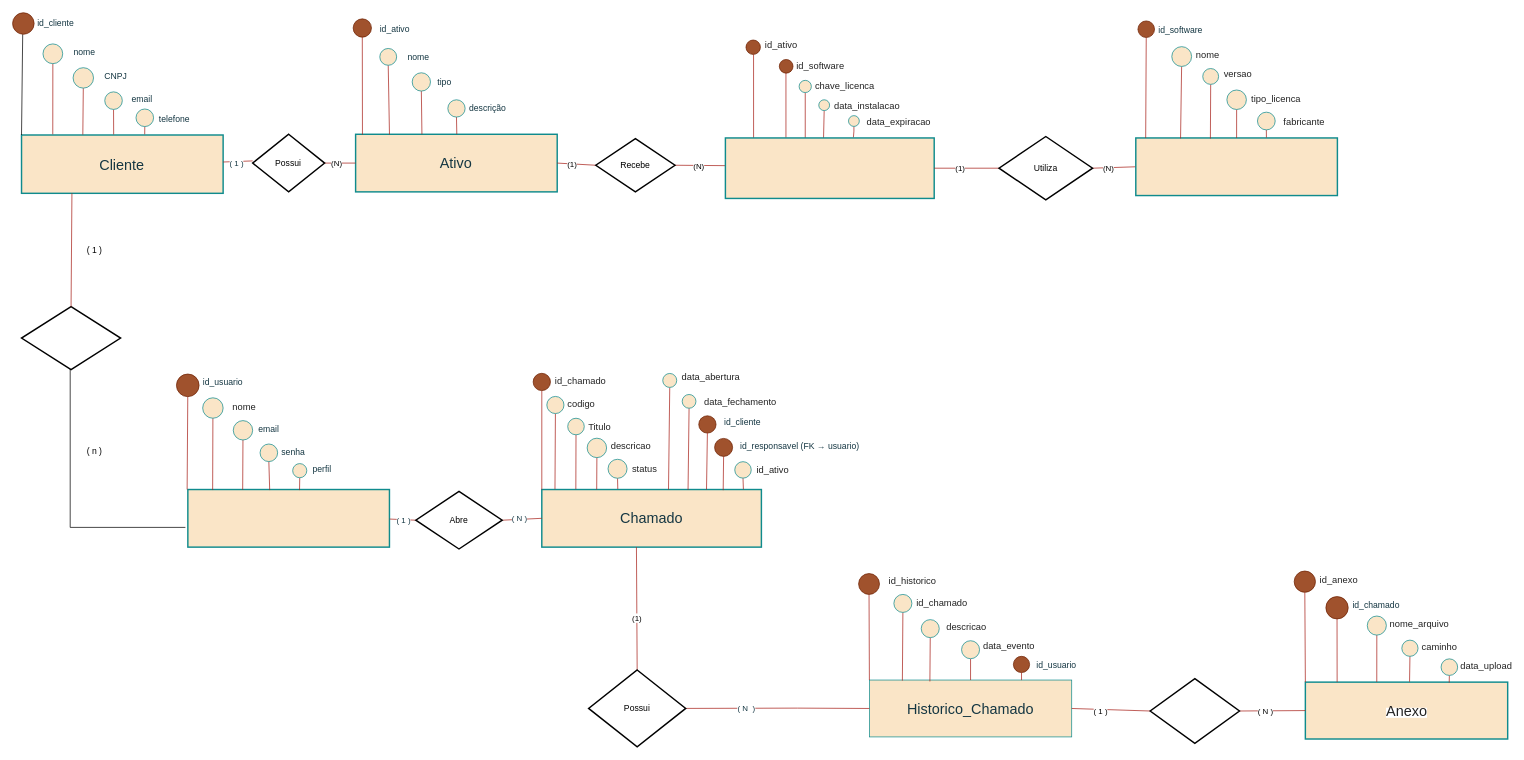
Some shapes in this 1524 by 760 pixel diagram are drawn without their labels. The shapes that lost their labels are listed below. From the top down, each one's centre as x and y in pixels, then its label:
the point at 829,168: Instalacao_Software
the point at 1236,166: Software
the point at 70,337: Pertence
the point at 288,517: Usuario
the point at 1194,711: Contém
